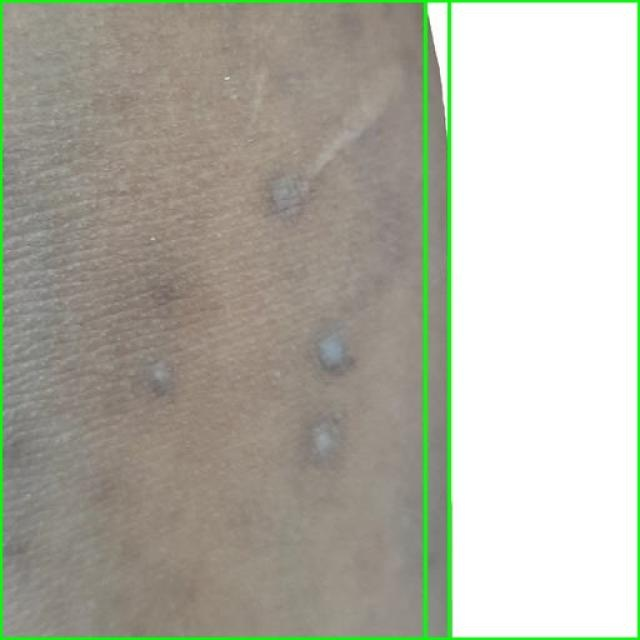Scabies: (0, 0, 449, 639), (425, 0, 639, 639)
